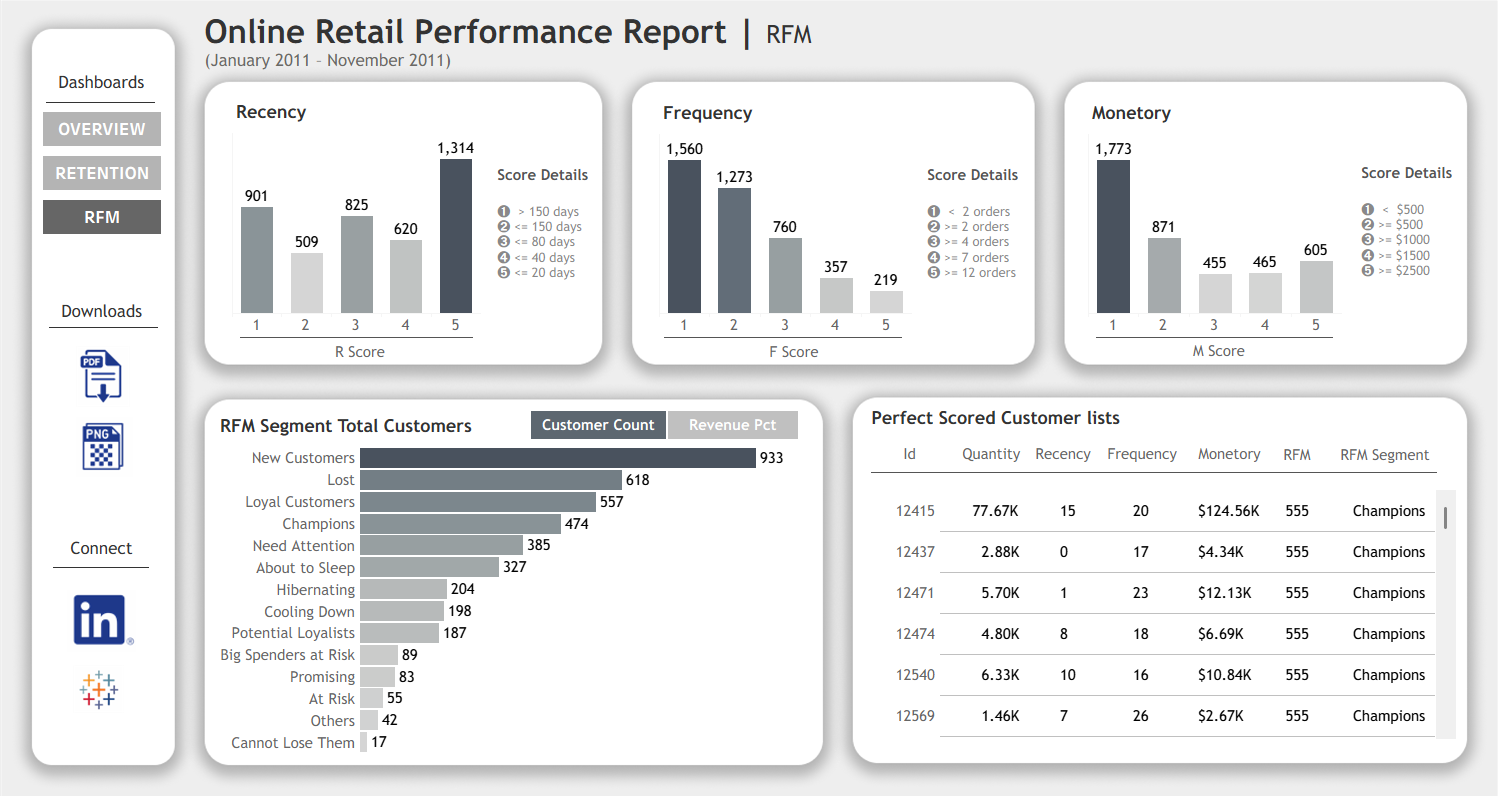

Layout of this report page (visuals, bound fields, positions):
{"tool":"tableau","page":{"name":"RFM","canvas":[1000,1000],"units":"permille","ordinal":1},"visuals":[{"type":"image","param":"Image/Frame 1 (3).png","box":[0,0,1000,1000]},{"type":"text","box":[134,11.2,602,83.8]},{"type":"text","box":[36.7,85,68.7,37.5]},{"type":"worksheet","title":"R_Score","mark":"Automatic","rows":["customer_id"],"cols":["r_score"],"box":[154.7,122.5,166,297.5]},{"type":"worksheet","title":"F_Score","mark":"Automatic","rows":["customer_id"],"cols":["f_score"],"box":[439.3,123.8,168.7,296.2]},{"type":"worksheet","title":"M_Score","mark":"Automatic","rows":["customer_id"],"cols":["m_score"],"box":[725.3,123.8,169.3,296.2]},{"type":"blank","box":[30.7,128.8,72.7,1.2]},{"type":"dashboard-object","box":[30.7,151.2,66.7,65]},{"type":"text","box":[905.3,206.2,66.7,148.8]},{"type":"text","box":[329.3,208.8,66.7,148.8]},{"type":"text","box":[616,208.8,68.7,148.8]},{"type":"dashboard-object","box":[34.7,240,64.7,65]},{"type":"text","box":[38.7,361.2,66.7,37.5]},{"type":"blank","box":[32.7,400,72.7,1.2]},{"type":"blank","box":[158,402.5,159.3,41.2]},{"type":"blank","box":[440.7,402.5,162.7,41.2]},{"type":"blank","box":[728.7,402.5,162,41.2]},{"type":"text","box":[779.3,421.2,66.7,37.5]},{"type":"text","box":[206.7,422.5,66.7,37.5]},{"type":"text","box":[496,422.5,66.7,37.5]},{"type":"dashboard-object","box":[35.3,423.8,66.7,76.2]},{"type":"text","box":[578.7,505,170.7,37.5]},{"type":"worksheet","title":"RFM Segment","mark":"Automatic","rows":["rfm_segment"],"cols":["customer_id"],"box":[145.3,508.8,395.3,430]},{"type":"dashboard-object","box":[39.3,512.5,60.7,75]},{"type":"text","box":[588,550,22.7,37.5]},{"type":"text","box":[627.3,550,48.7,37.5]},{"type":"text","box":[736,550,54.7,37.5]},{"type":"text","box":[796.7,550,49.3,37.5]},{"type":"text","box":[683.3,551.2,43.3,37.5]},{"type":"text","box":[853.3,551.2,27.3,37.5]},{"type":"text","box":[891.3,551.2,70,37.5]},{"type":"blank","box":[580.7,591.2,377.3,1.2]},{"type":"worksheet","title":"Perfect Scored Customer lists","mark":"Circle","rows":["customer_id"],"cols":["Calculation_0900549563179023","Calculation_0900549563179023","Calculation_0900549563179023","Calculation_0900549563179023","Calculation_0900549563179023","Calculation_0900549563179023"],"box":[581.3,613.8,390,311.2]},{"type":"text","box":[44.7,657.5,66.7,37.5]},{"type":"blank","box":[35.3,700,64,1.2]},{"type":"image","param":"Image/Screenshot 2026-03-17 221749.png","box":[44.7,727.5,46,81.2]},{"type":"image","param":"Image/Screenshot 2026-03-17 221802.png","box":[44.7,822.5,42.7,60]}]}

Visuals, with their boxes on the dashboard's canvas, which has no fixed pixel size, in thousandths of its width and height (x1, y1, x2, y2). These are canvas units, not pixel positions in the 1498x796 screenshot, which may show the page scaled, cropped or inside an application window:
image: crop(0, 0, 1000, 1000)
text: crop(134, 11, 736, 95)
text: crop(37, 85, 105, 122)
"R_Score" worksheet: crop(155, 122, 321, 420)
"F_Score" worksheet: crop(439, 124, 608, 420)
"M_Score" worksheet: crop(725, 124, 895, 420)
blank: crop(31, 129, 103, 130)
dashboard-object: crop(31, 151, 97, 216)
text: crop(905, 206, 972, 355)
text: crop(329, 209, 396, 358)
text: crop(616, 209, 685, 358)
dashboard-object: crop(35, 240, 99, 305)
text: crop(39, 361, 105, 399)
blank: crop(33, 400, 105, 401)
blank: crop(158, 402, 317, 444)
blank: crop(441, 402, 603, 444)
blank: crop(729, 402, 891, 444)
text: crop(779, 421, 846, 459)
text: crop(207, 422, 273, 460)
text: crop(496, 422, 563, 460)
dashboard-object: crop(35, 424, 102, 500)
text: crop(579, 505, 749, 542)
"RFM Segment" worksheet: crop(145, 509, 541, 939)
dashboard-object: crop(39, 512, 100, 588)
text: crop(588, 550, 611, 588)
text: crop(627, 550, 676, 588)
text: crop(736, 550, 791, 588)
text: crop(797, 550, 846, 588)
text: crop(683, 551, 727, 589)
text: crop(853, 551, 881, 589)
text: crop(891, 551, 961, 589)
blank: crop(581, 591, 958, 592)
"Perfect Scored Customer lists" worksheet (Circle marks): crop(581, 614, 971, 925)
text: crop(45, 658, 111, 695)
blank: crop(35, 700, 99, 701)
image: crop(45, 728, 91, 809)
image: crop(45, 822, 87, 882)
